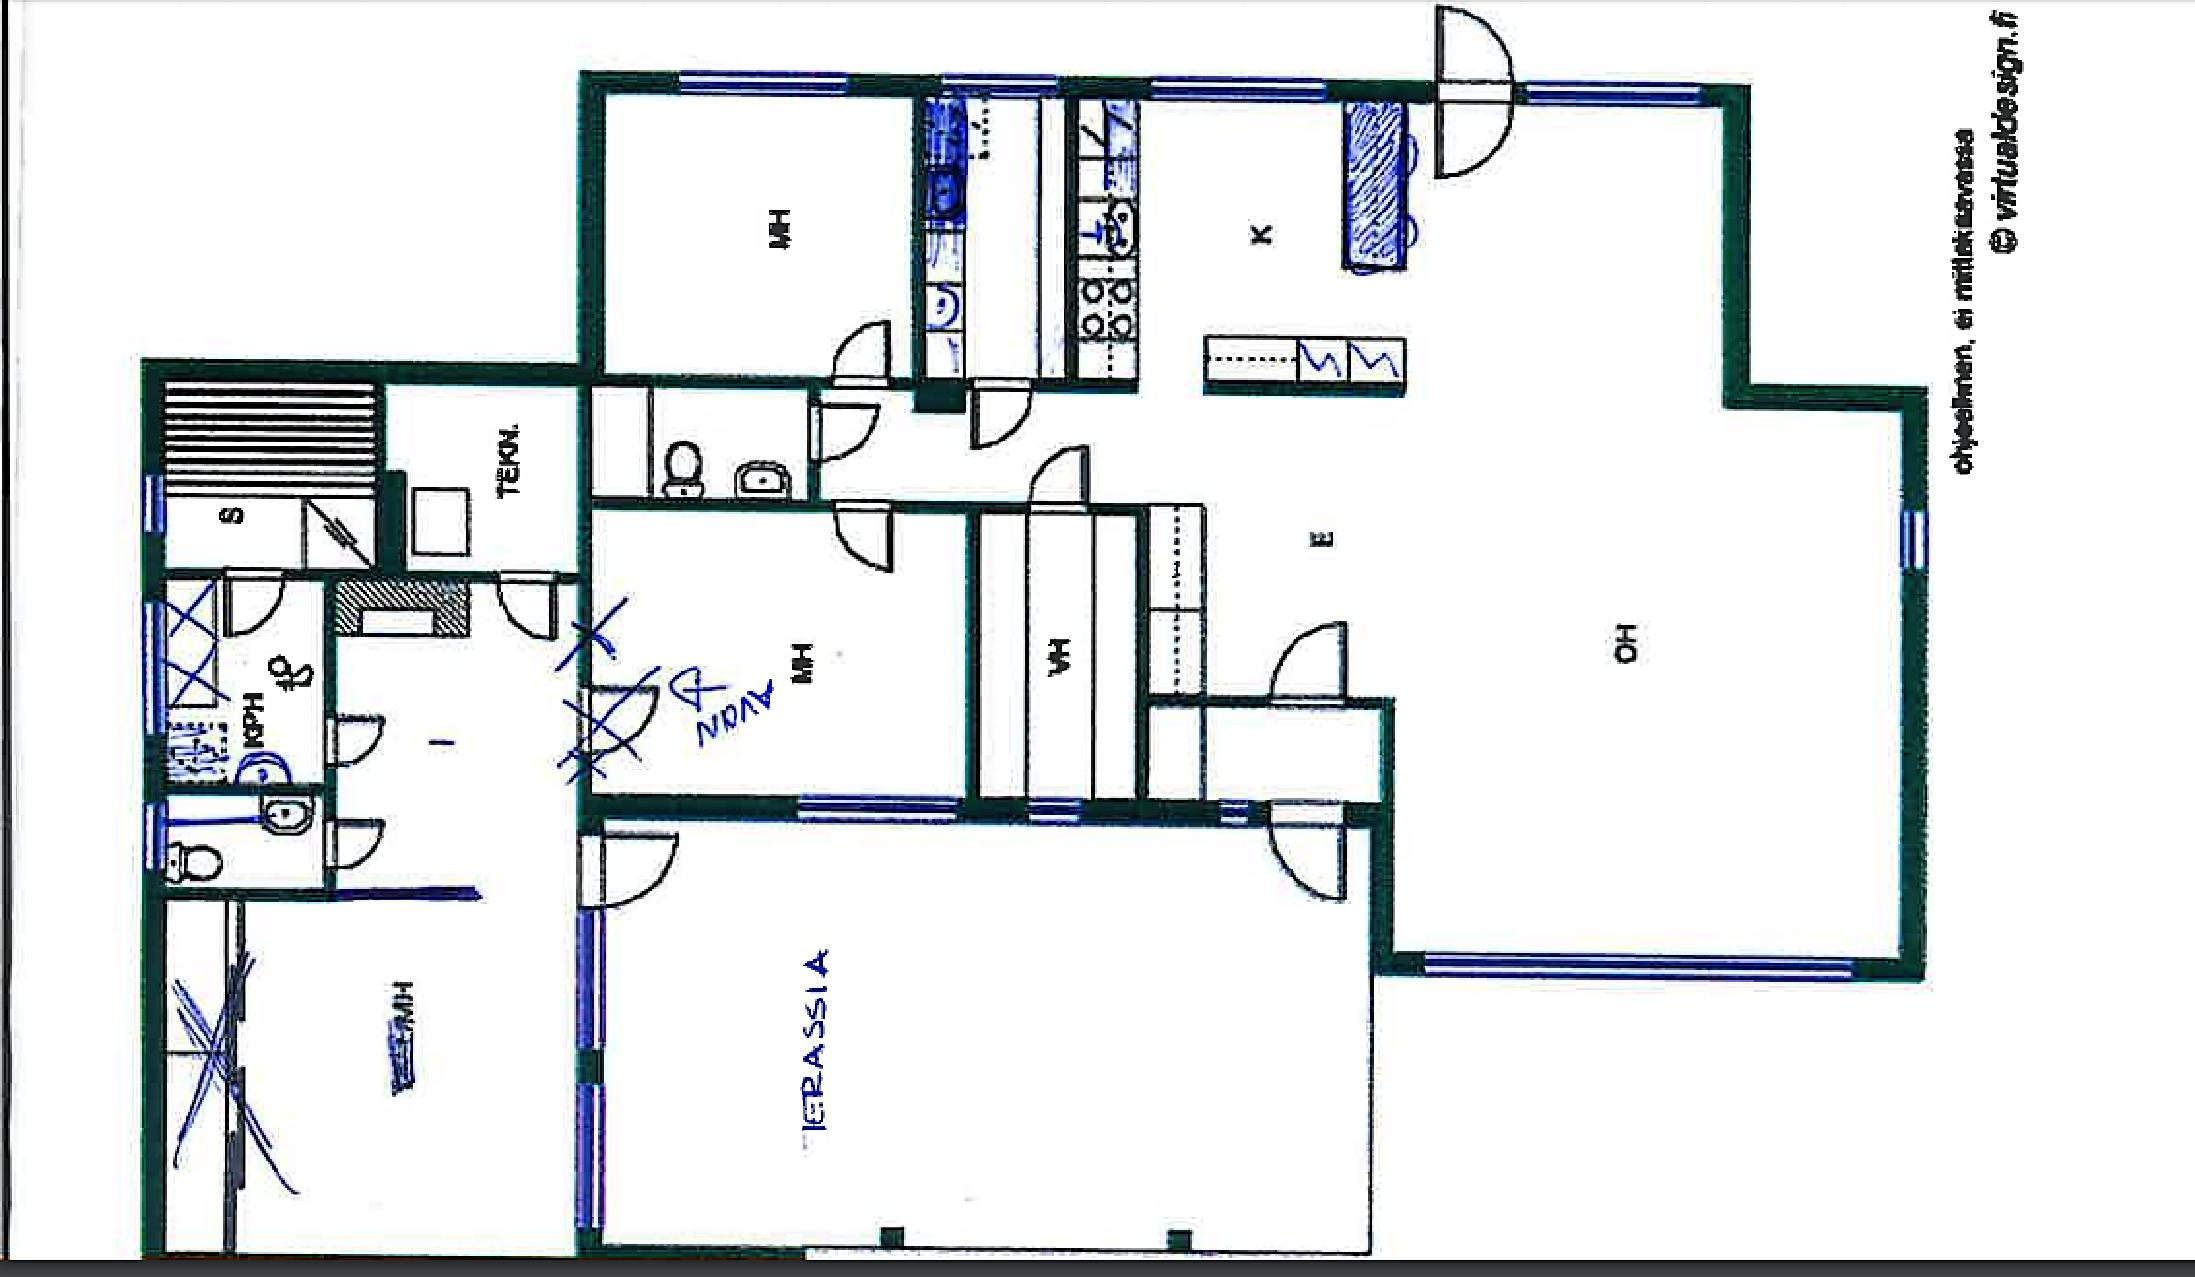door: (1420, 2, 1525, 176), (1263, 800, 1364, 912), (562, 829, 686, 909), (1266, 607, 1354, 705), (567, 680, 651, 753), (225, 564, 289, 652), (844, 494, 901, 588), (965, 383, 1034, 461), (499, 564, 559, 651), (1025, 432, 1085, 512), (801, 410, 879, 464), (830, 322, 891, 389), (321, 710, 385, 771), (321, 818, 383, 868)
window: (1415, 946, 1861, 984), (567, 906, 608, 1221), (683, 65, 850, 102), (798, 791, 955, 829), (930, 67, 1053, 108), (1520, 79, 1695, 106), (137, 594, 169, 737), (1145, 81, 1321, 106), (1893, 502, 1935, 587), (132, 803, 176, 868), (135, 474, 163, 532), (1028, 794, 1079, 822), (1208, 803, 1254, 825)
zone: (812, 94, 1905, 967), (597, 816, 1376, 1257), (160, 895, 575, 1254), (582, 499, 974, 797), (593, 84, 927, 374), (603, 93, 912, 366), (334, 576, 576, 889), (977, 509, 1143, 797), (157, 360, 383, 566), (924, 93, 1072, 369), (382, 380, 579, 567), (166, 573, 330, 787), (584, 383, 818, 494), (169, 781, 324, 895)
